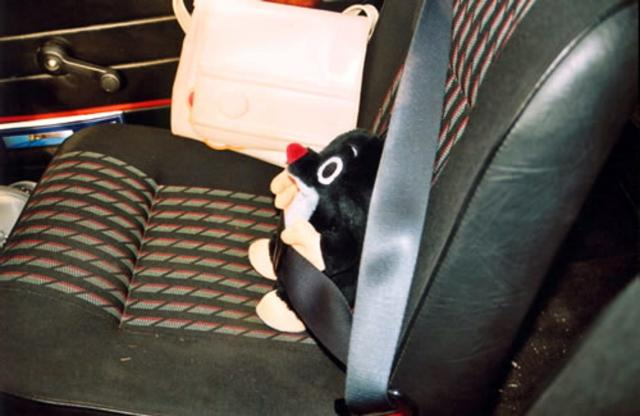Seatbelt: (344, 0, 458, 414)
